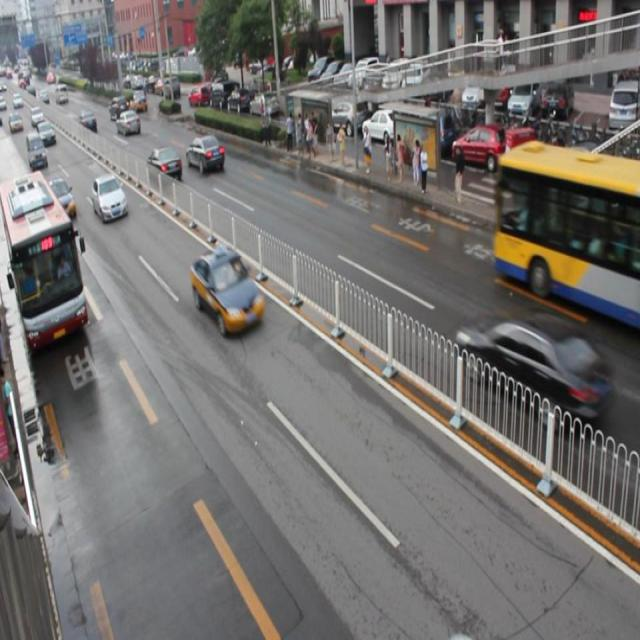car: (456, 309, 608, 431), (192, 247, 265, 336), (92, 174, 128, 221), (187, 134, 224, 172), (46, 175, 76, 215), (147, 146, 182, 180)
van: (495, 136, 640, 328), (0, 175, 89, 346)
